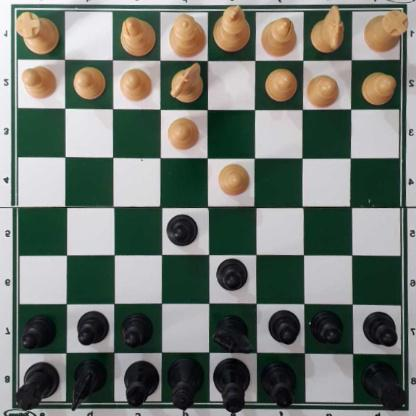black-bishop: (260, 362, 297, 409), (123, 362, 159, 409)
black-king: (212, 358, 252, 413)
black-knight: (71, 359, 106, 412), (212, 313, 254, 354)
black-pawn: (362, 312, 397, 349), (21, 315, 56, 351), (215, 261, 249, 295), (76, 312, 107, 349), (311, 312, 343, 347), (268, 311, 299, 346), (121, 315, 152, 349), (166, 216, 197, 248)
black-queen: (166, 360, 205, 411)
black-rook: (14, 364, 59, 410), (360, 364, 403, 410)
white-bishop: (261, 16, 296, 58), (119, 17, 154, 58)
white-king: (214, 6, 248, 55)
white-knight: (311, 5, 344, 55), (170, 64, 204, 105)
white-pawn: (19, 67, 58, 101), (166, 118, 200, 153), (118, 69, 152, 104), (361, 73, 396, 106), (216, 165, 250, 198), (263, 70, 296, 103), (307, 75, 339, 109), (72, 70, 105, 101)
white-queen: (165, 15, 208, 59)
white-rook: (14, 13, 59, 56), (363, 11, 408, 54)
